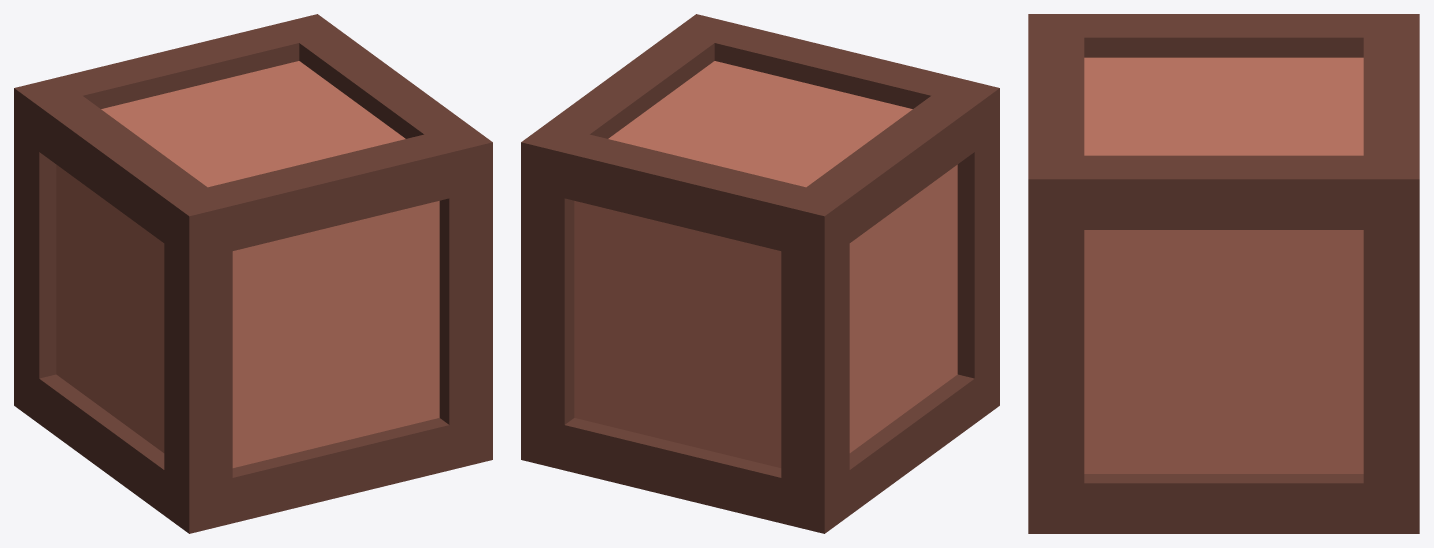
File: crate.fbx
3 views of the same model, side by side, from view 1: azimuth 30°, elevation 25°; view 2: azimuth 150°, elevation 25°; view 3: azimuth 270°, elevation 25° (orthographic). The views are drawn at different scales.
Parts seen in each view (by area): view 1: Crate; view 2: Crate; view 3: Crate.
Part boxes in pixels (bbox=[...]): Crate: bbox=[14, 14, 492, 533]; Crate: bbox=[521, 14, 999, 533]; Crate: bbox=[1028, 14, 1419, 533].
Size of the model in its own units: 200 by 200 by 200.
